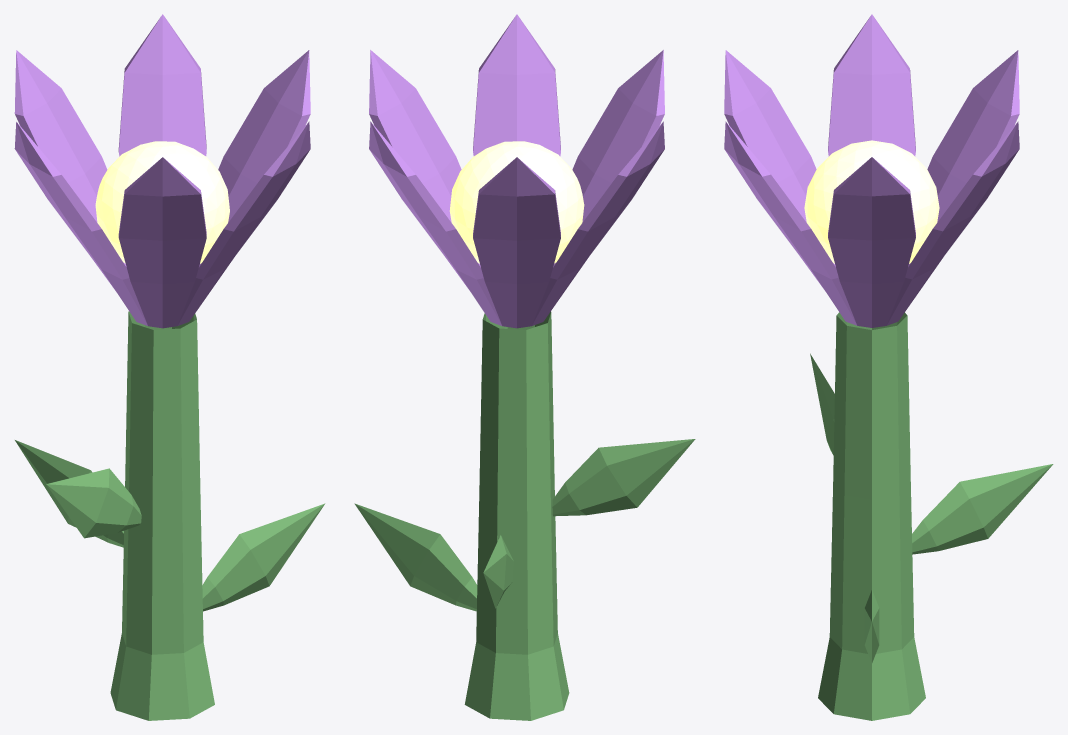
File: SparkStation.glb
The picture shows the model from 3 angles, left to right: view 1: azimuth 30°, elevation 25°; view 2: azimuth 150°, elevation 25°; view 3: azimuth 270°, elevation 25°; orthographic projection.
Visible parts, largest first — view 1: SparkStation; view 2: SparkStation; view 3: SparkStation.
Part boxes in pixels (left/top/right/bottom): SparkStation: left=14, top=14, right=325, bottom=720; SparkStation: left=354, top=14, right=695, bottom=720; SparkStation: left=724, top=14, right=1053, bottom=720.
Size of the model in its own units: 2.12 by 4 by 1.95.
